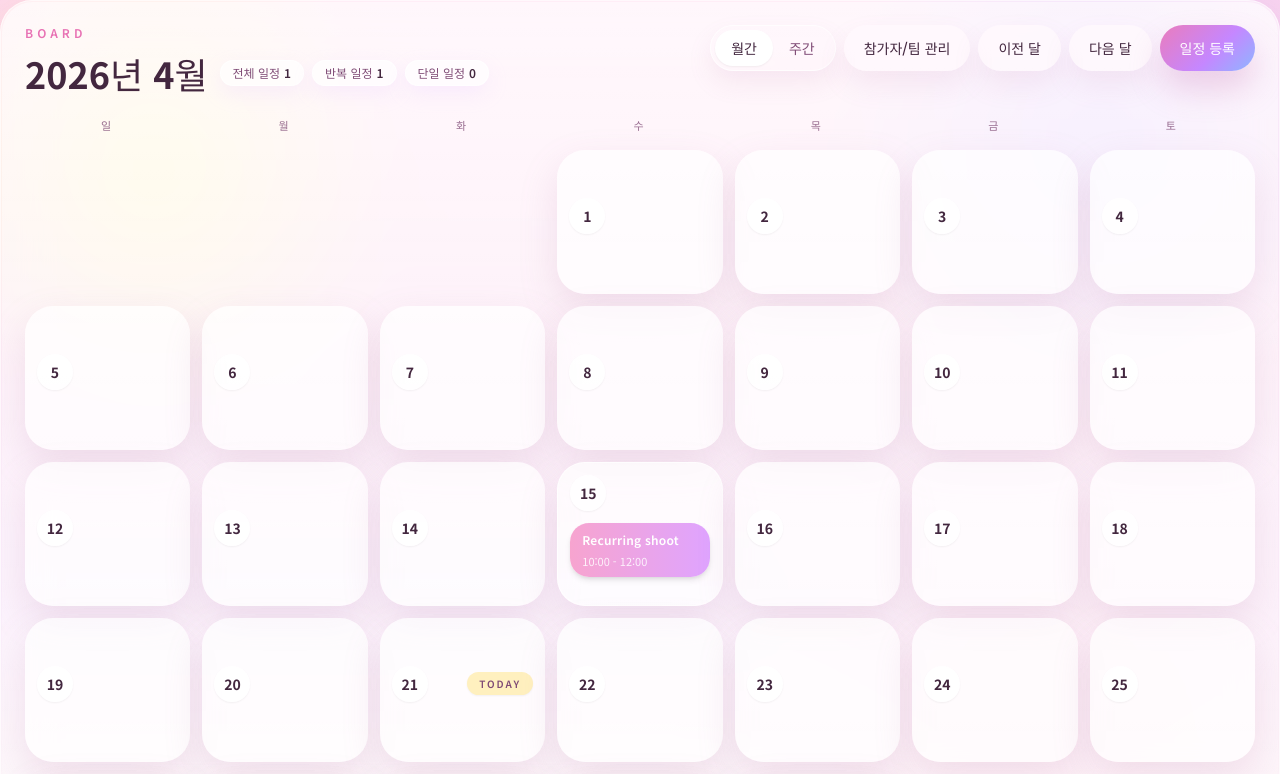
Test case: CalendarPage › asks for a delete scope when removing a recurring schedule
Click the button "Recurring shoot 10:00 - 12:00": (640, 550) left=570, top=522, right=710, bottom=576
(page scrolled)
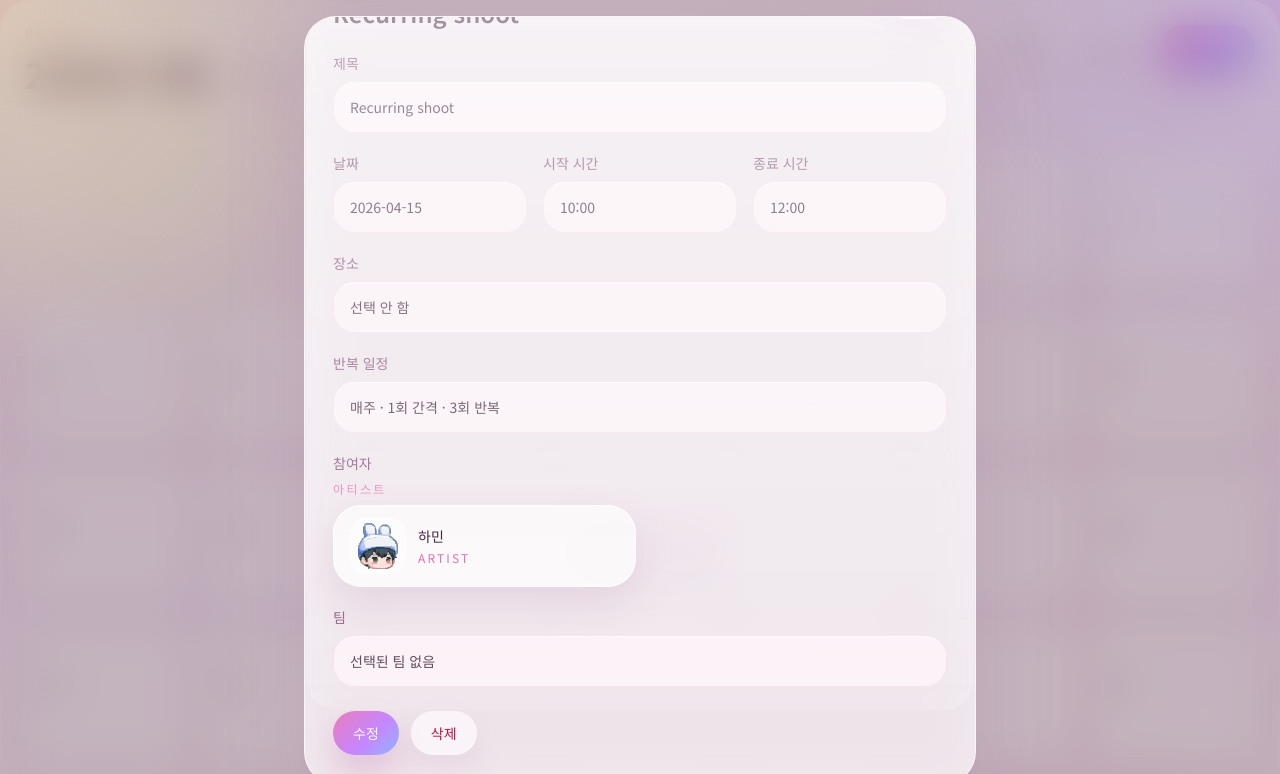
Click the button "삭제": (444, 733) left=411, top=711, right=477, bottom=755
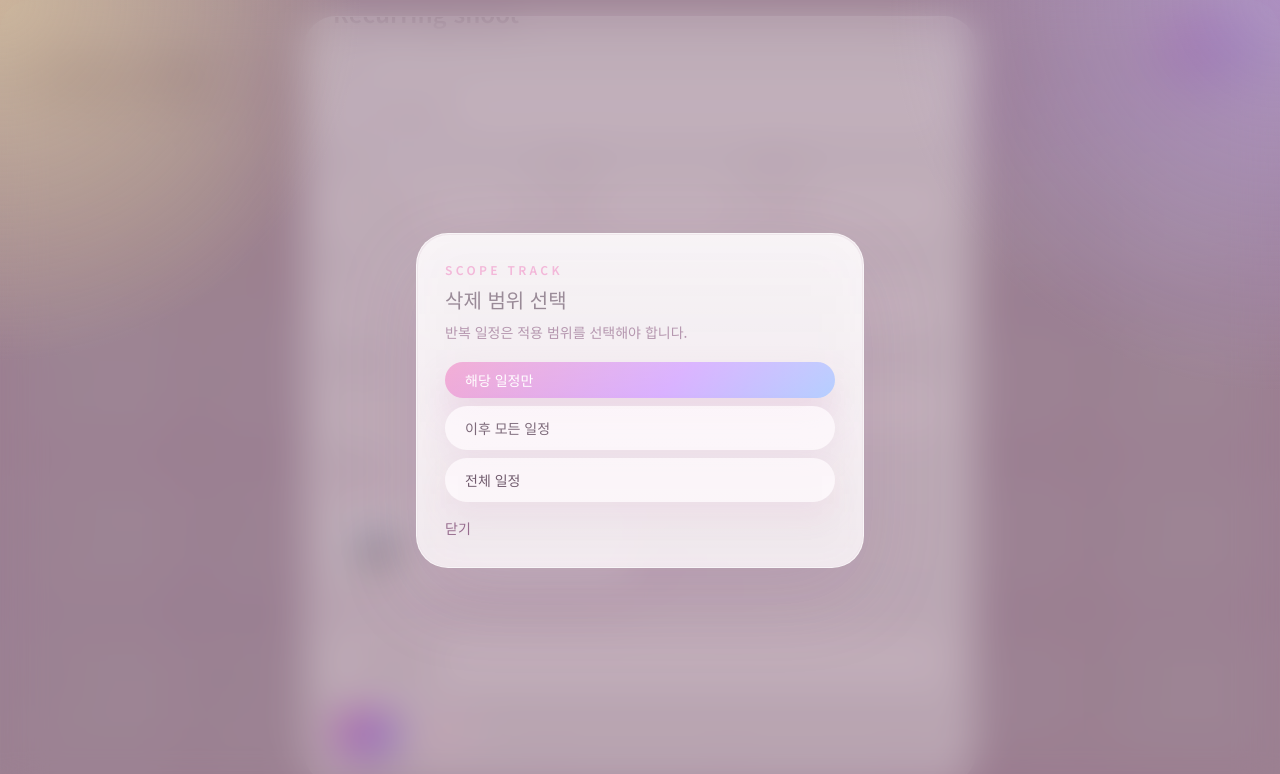
Now the heading "삭제 범위 선택" is shown, box left=445, top=284, right=567, bottom=314
Now the button "해당 일정만" is shown, box left=445, top=362, right=835, bottom=398
Now the button "이후 모든 일정" is shown, box left=445, top=406, right=835, bottom=450
